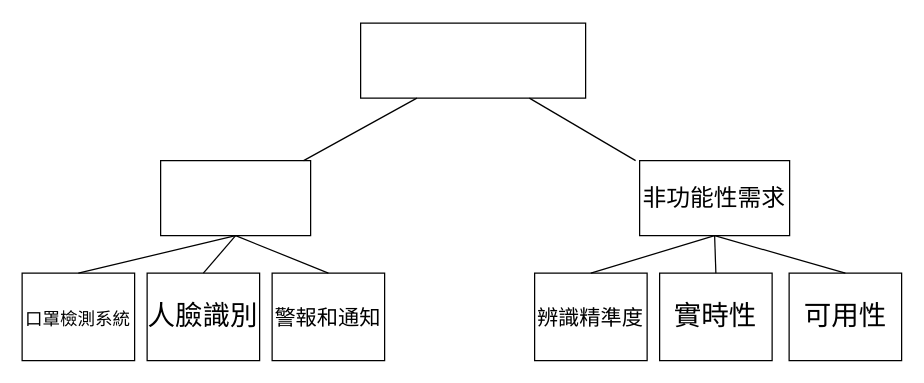
Some shapes in this 924 by 383 pixel diagram are drawn without their labels. Here are the shapes that lost their labels. From the top down, the box of each, then its label:
(359, 22, 586, 98): 員工臉部辨識打卡系統
(159, 159, 311, 236): 功能性需求
